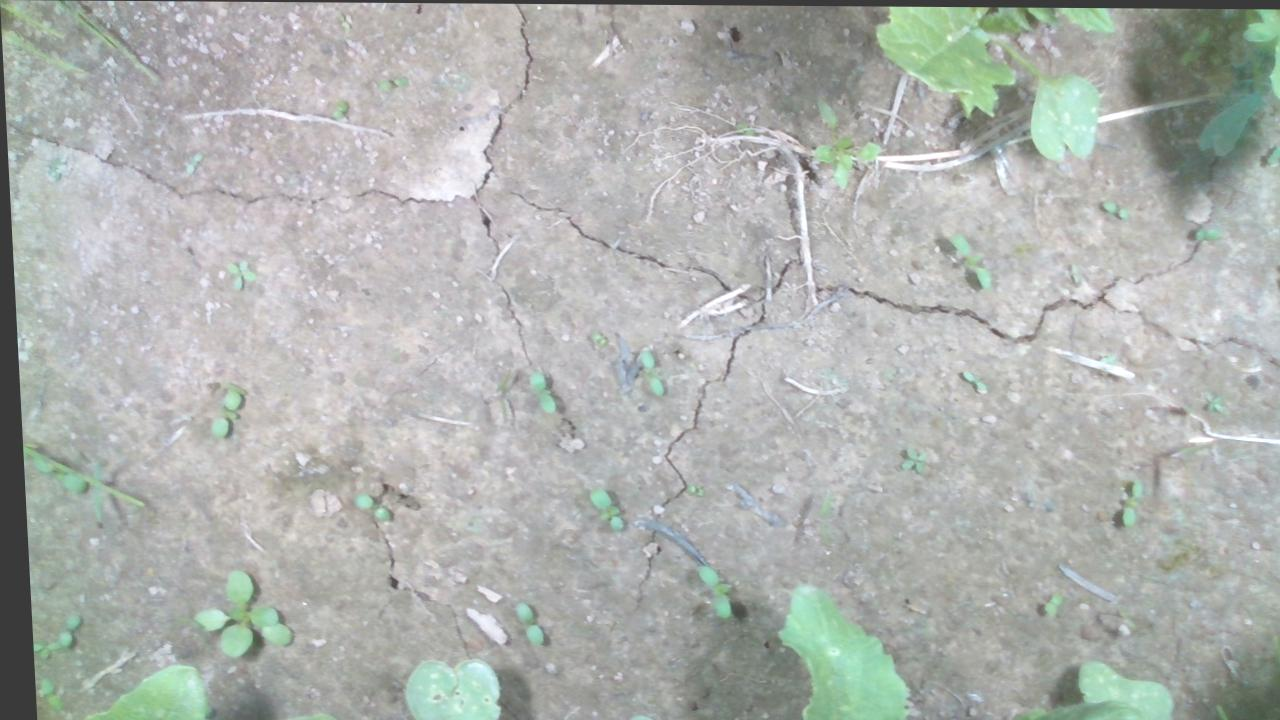weed: (939, 226, 990, 289), (688, 562, 728, 619), (582, 483, 620, 532), (204, 388, 239, 437), (504, 600, 537, 646), (1112, 472, 1139, 527), (346, 489, 388, 522), (523, 369, 552, 415), (219, 255, 255, 291), (633, 348, 660, 395), (892, 443, 923, 471), (955, 366, 984, 391), (1097, 195, 1129, 217), (374, 73, 409, 92), (1187, 224, 1219, 240), (1198, 390, 1221, 412), (1036, 589, 1056, 614), (329, 97, 348, 119), (679, 480, 700, 496)
